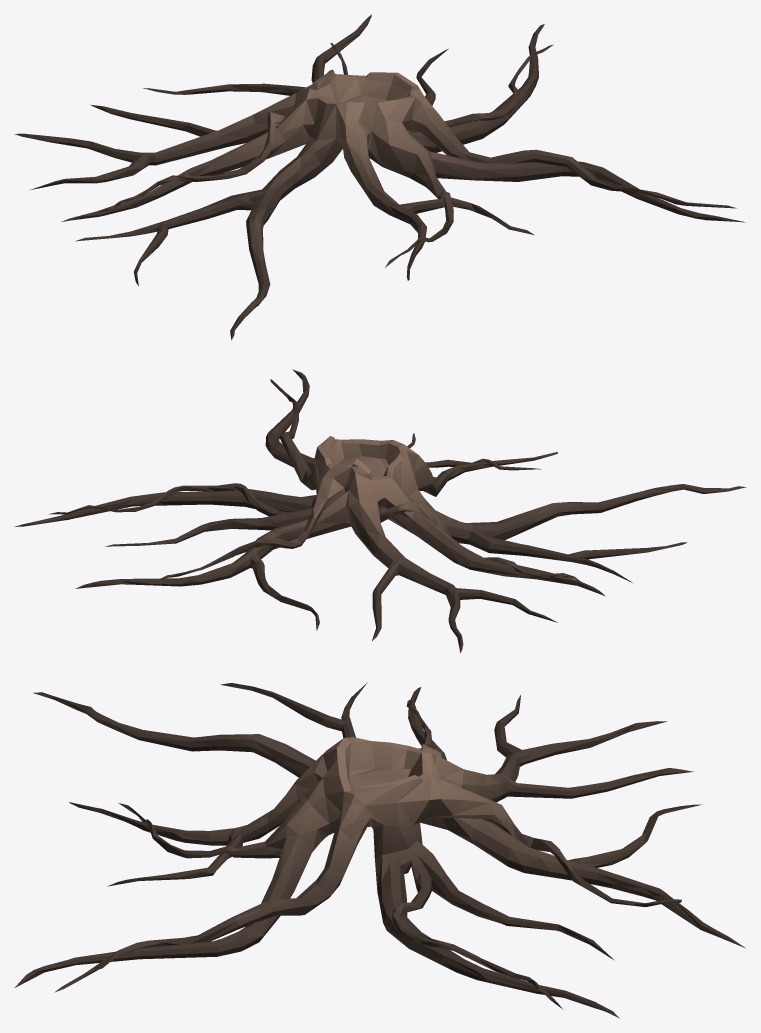
Rendered from Jungle_Roots_A.fbx.
3 renders of one model, top to bottom at view 1: azimuth 30°, elevation 25°; view 2: azimuth 150°, elevation 25°; view 3: azimuth 270°, elevation 25°, orthographic. The views are drawn at different scales.
Visible parts, largest first — view 1: Jungle_Roots_A; view 2: Jungle_Roots_A; view 3: Jungle_Roots_A.
Boxes of the visible parts, x1,y1,x2,y2 form: Jungle_Roots_A: [14, 14, 745, 340]; Jungle_Roots_A: [14, 369, 746, 653]; Jungle_Roots_A: [14, 682, 745, 1018].
Bounding box in the file's own units: 10.66 × 1.69 × 9.83.
